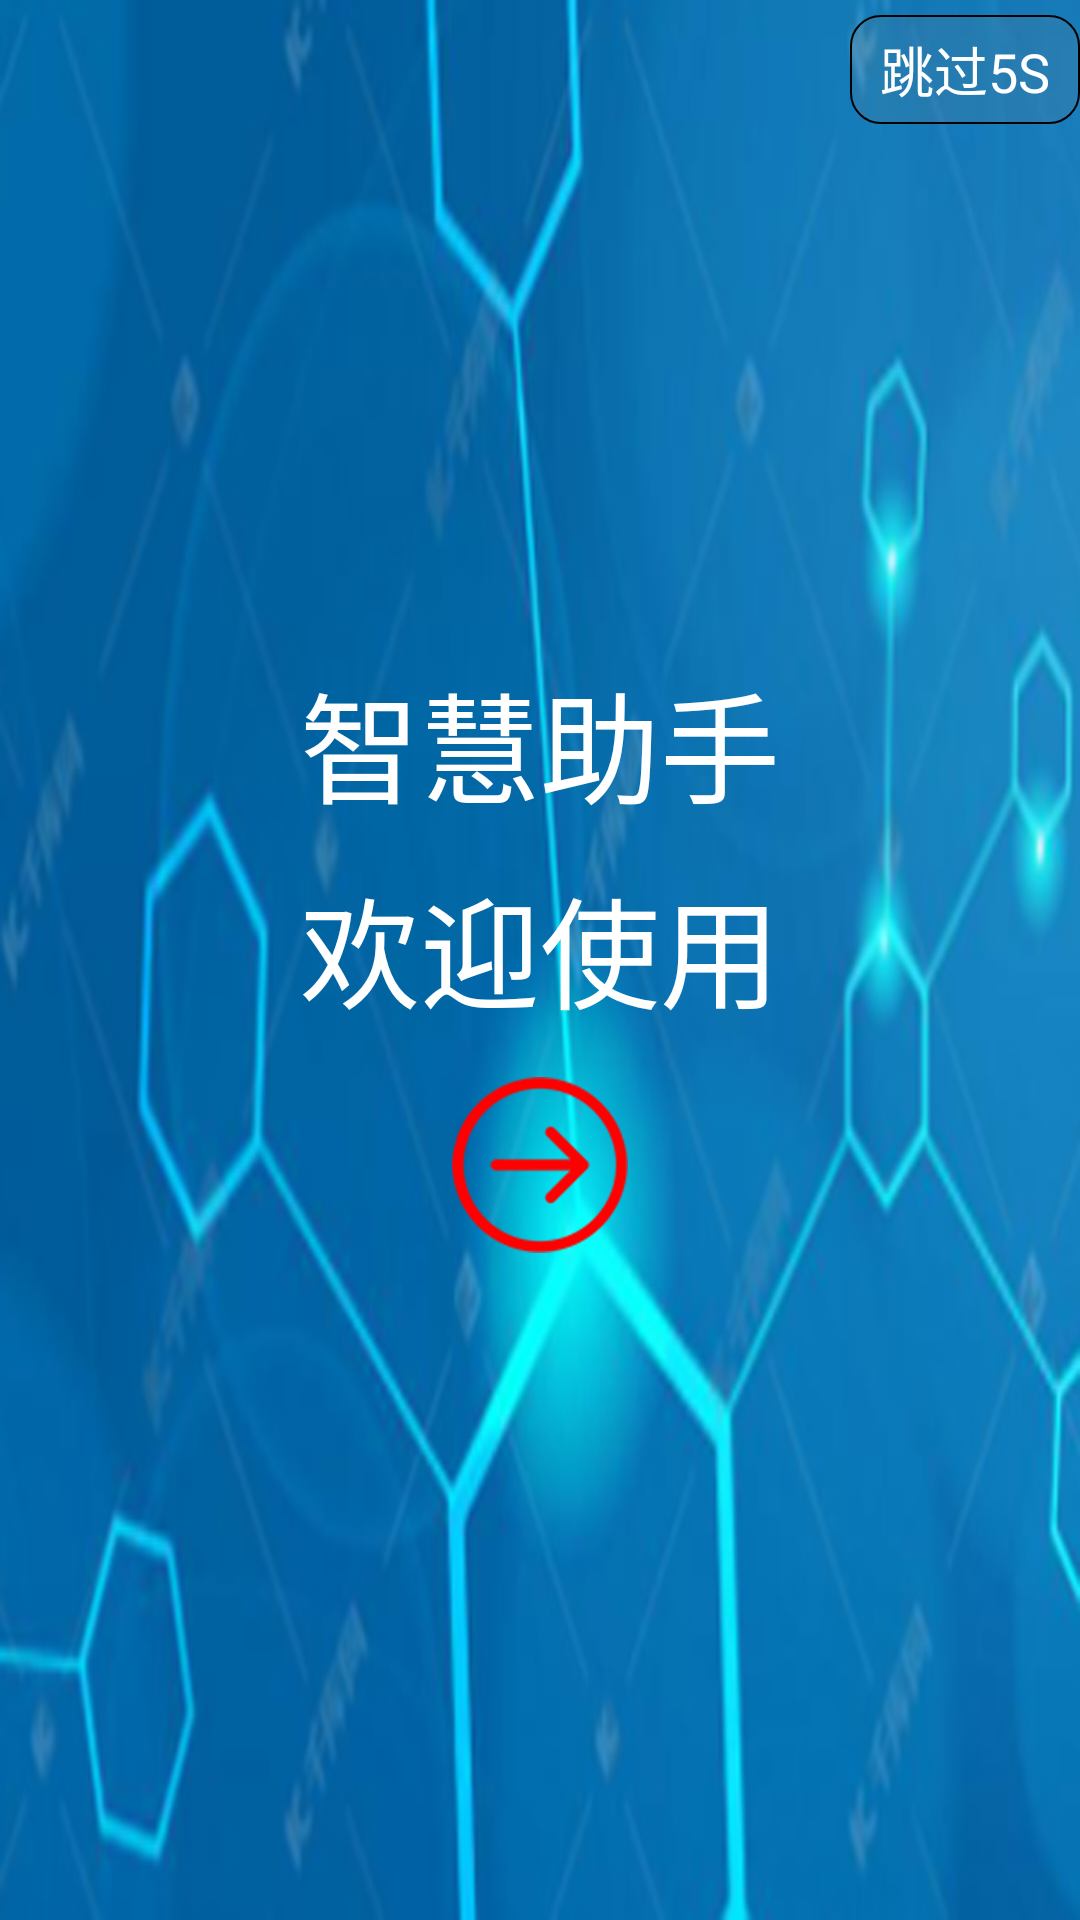

Screen size 1080*1920. Icon name, then its center in pixels as point (x, y):
enter: point (540, 1165)
